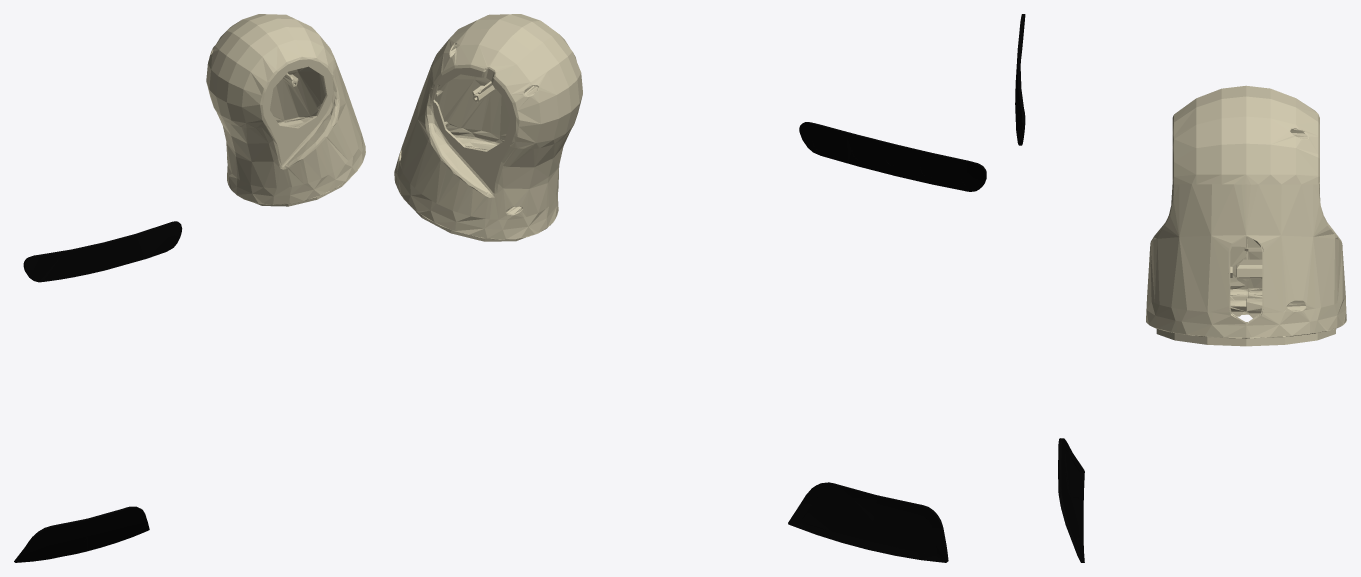
File: walker_left_shoulder_roll.dae
The picture shows the model from 3 angles, left to right: view 1: azimuth 30°, elevation 25°; view 2: azimuth 150°, elevation 25°; view 3: azimuth 270°, elevation 25°; orthographic projection. The views are drawn at different scales.
Visible parts, largest first — view 1: Shape_IndexedFaceSet_180, Shape_IndexedFaceSet_232; view 2: Shape_IndexedFaceSet_180, Shape_IndexedFaceSet_232; view 3: Shape_IndexedFaceSet_180, Shape_IndexedFaceSet_232.
Boxes of the visible parts, x1,y1,x2,y2 form: Shape_IndexedFaceSet_180: (206,14,365,206); Shape_IndexedFaceSet_232: (14,221,182,562); Shape_IndexedFaceSet_180: (394,14,582,241); Shape_IndexedFaceSet_232: (788,122,986,562); Shape_IndexedFaceSet_180: (1146,85,1346,346); Shape_IndexedFaceSet_232: (1015,14,1084,562).
Size of the model in its own units: 0.3941 by 0.1959 by 0.3924.
